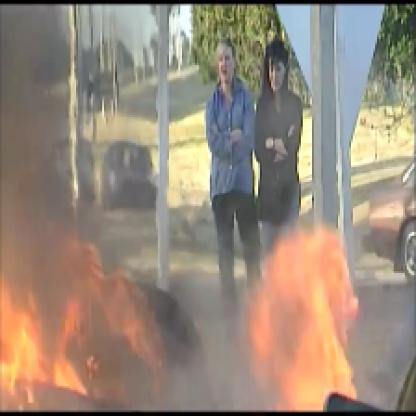Fire: (2, 232, 373, 414)
